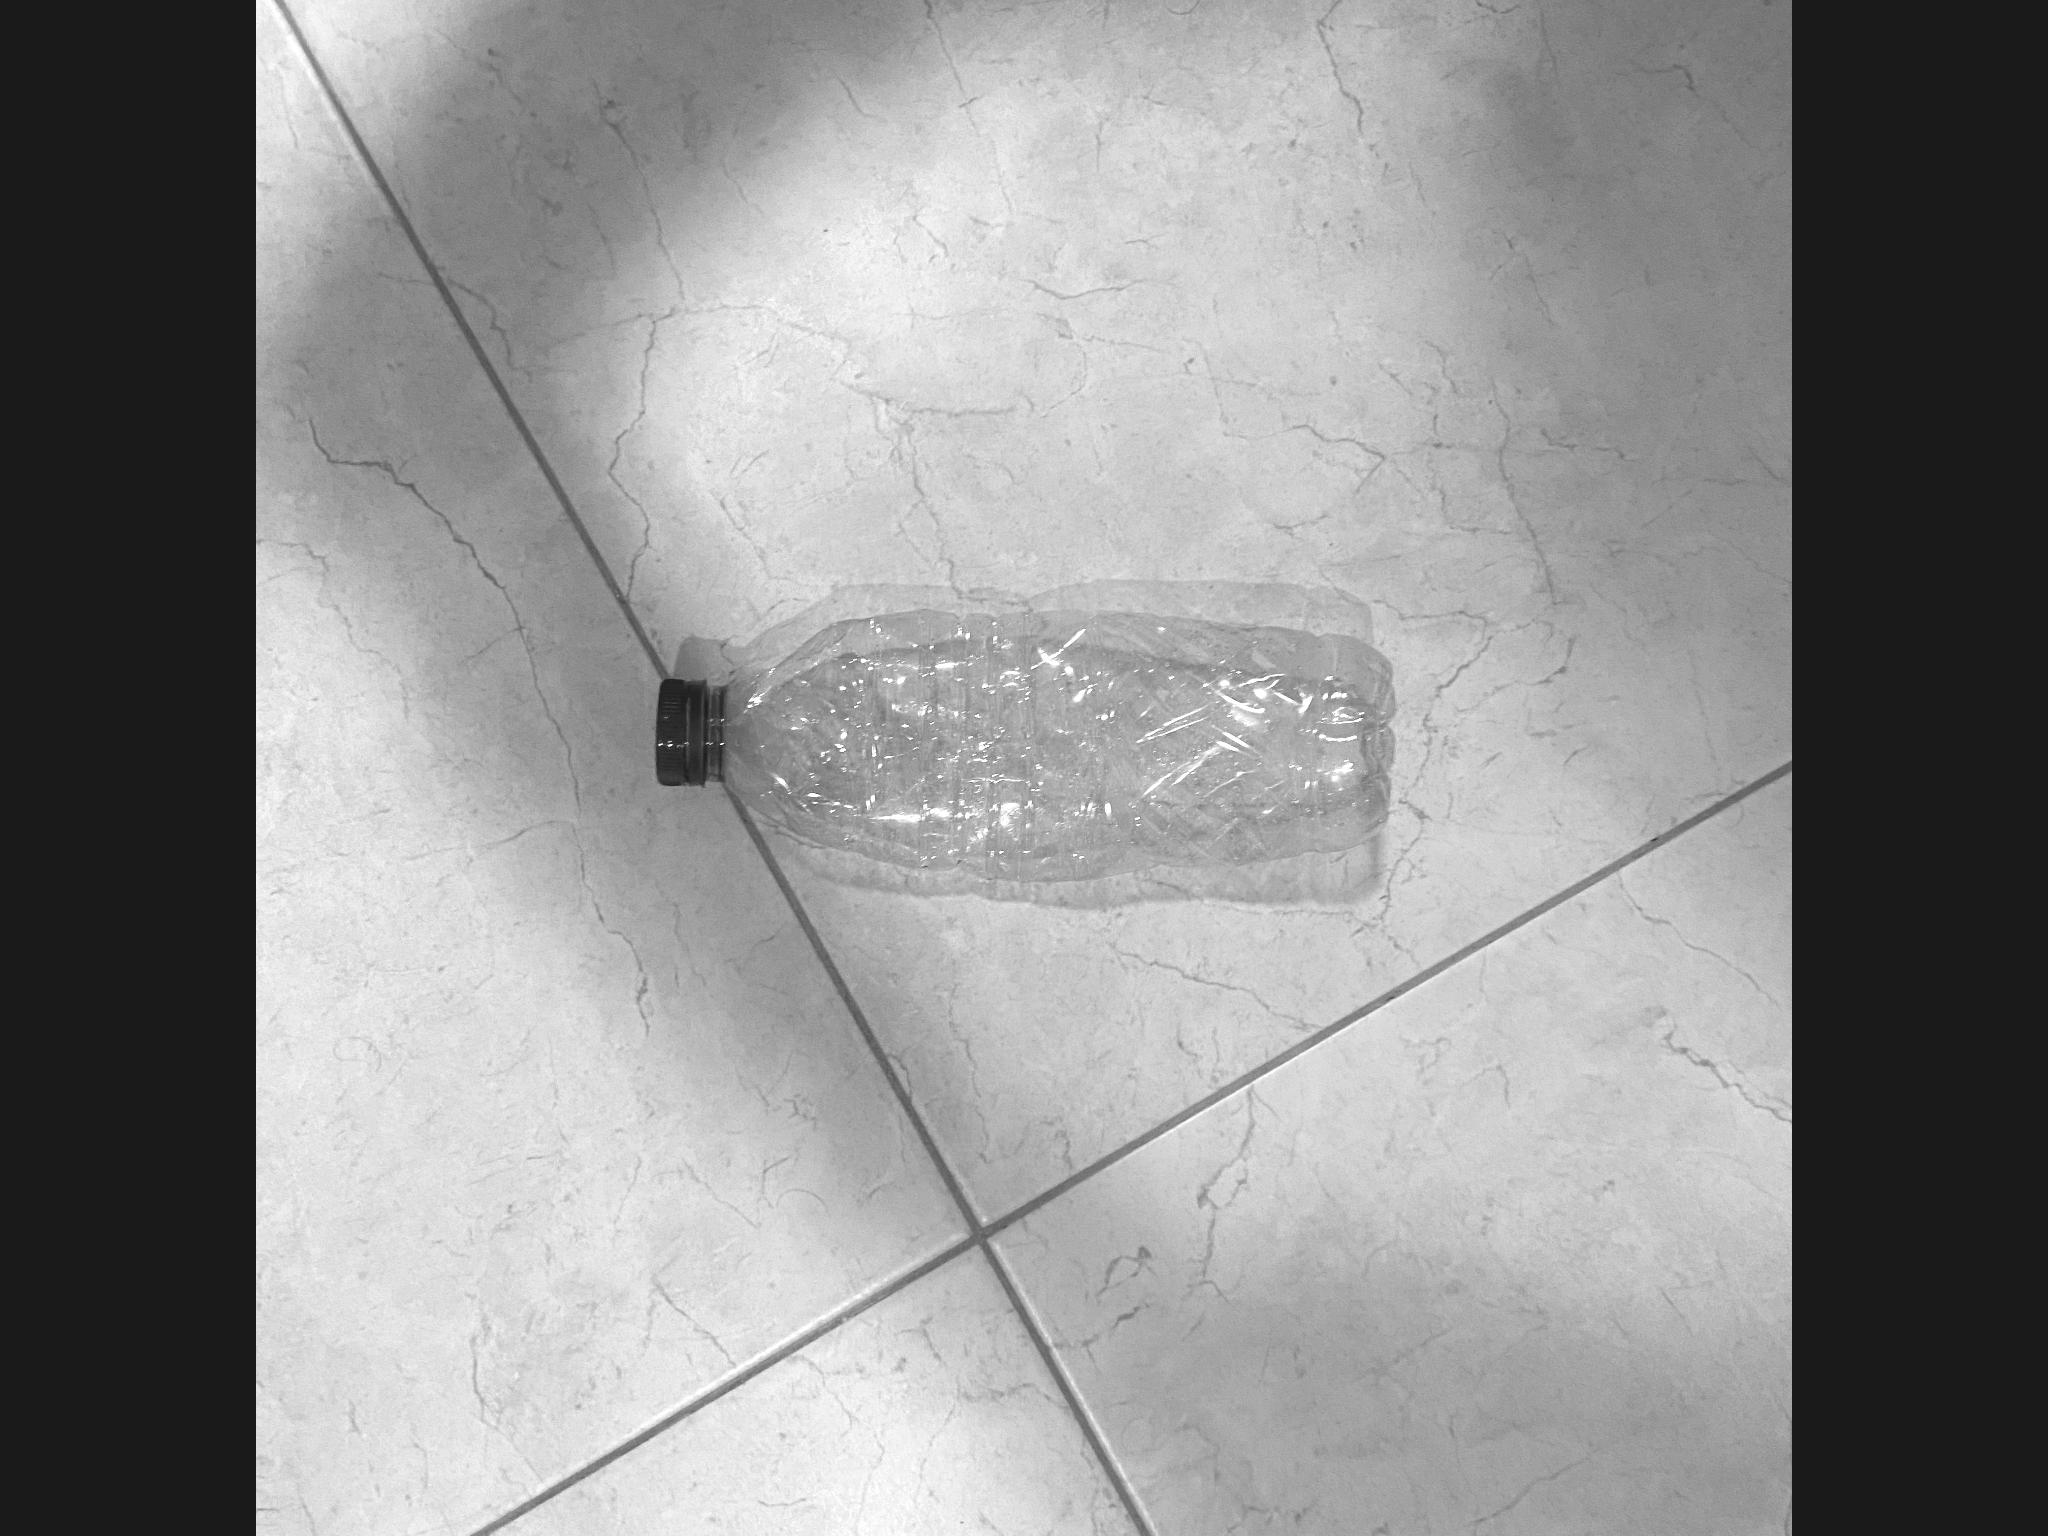bottle: (940, 252, 1154, 1274)
